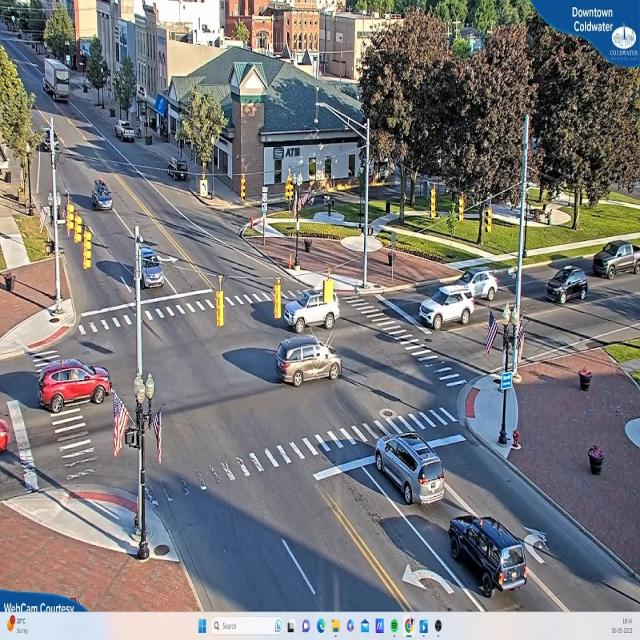car: (449, 514, 532, 594), (373, 432, 445, 507), (38, 362, 111, 410), (276, 336, 342, 388), (420, 290, 477, 330), (592, 241, 639, 280), (448, 270, 498, 303), (287, 300, 339, 331), (546, 269, 588, 305), (143, 242, 166, 288), (92, 183, 112, 212), (117, 120, 138, 143)
truck: (42, 59, 71, 102)
